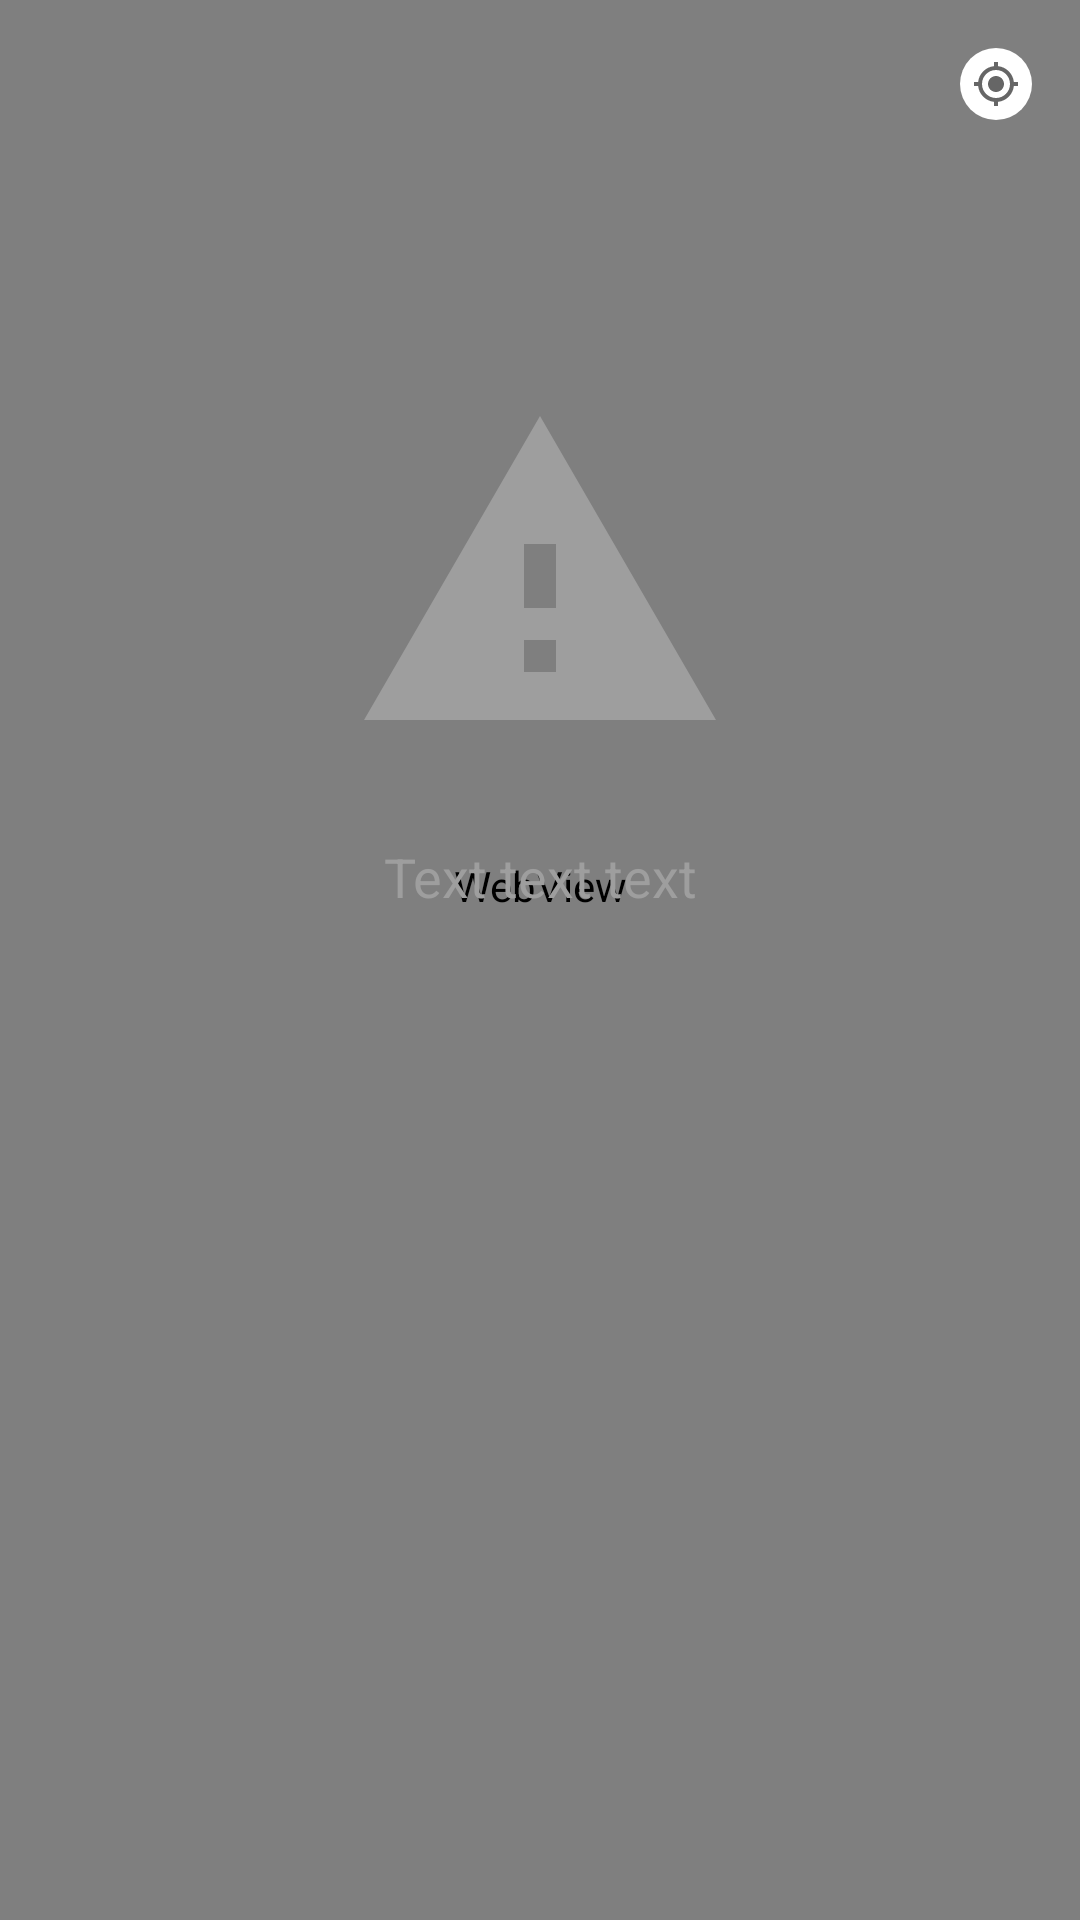

Screen size 1080x1920. Icon name, then its box in pixels as region(x1, y1, x2, y2):
alert: region(365, 417, 715, 720)
location: region(960, 48, 1032, 120)
